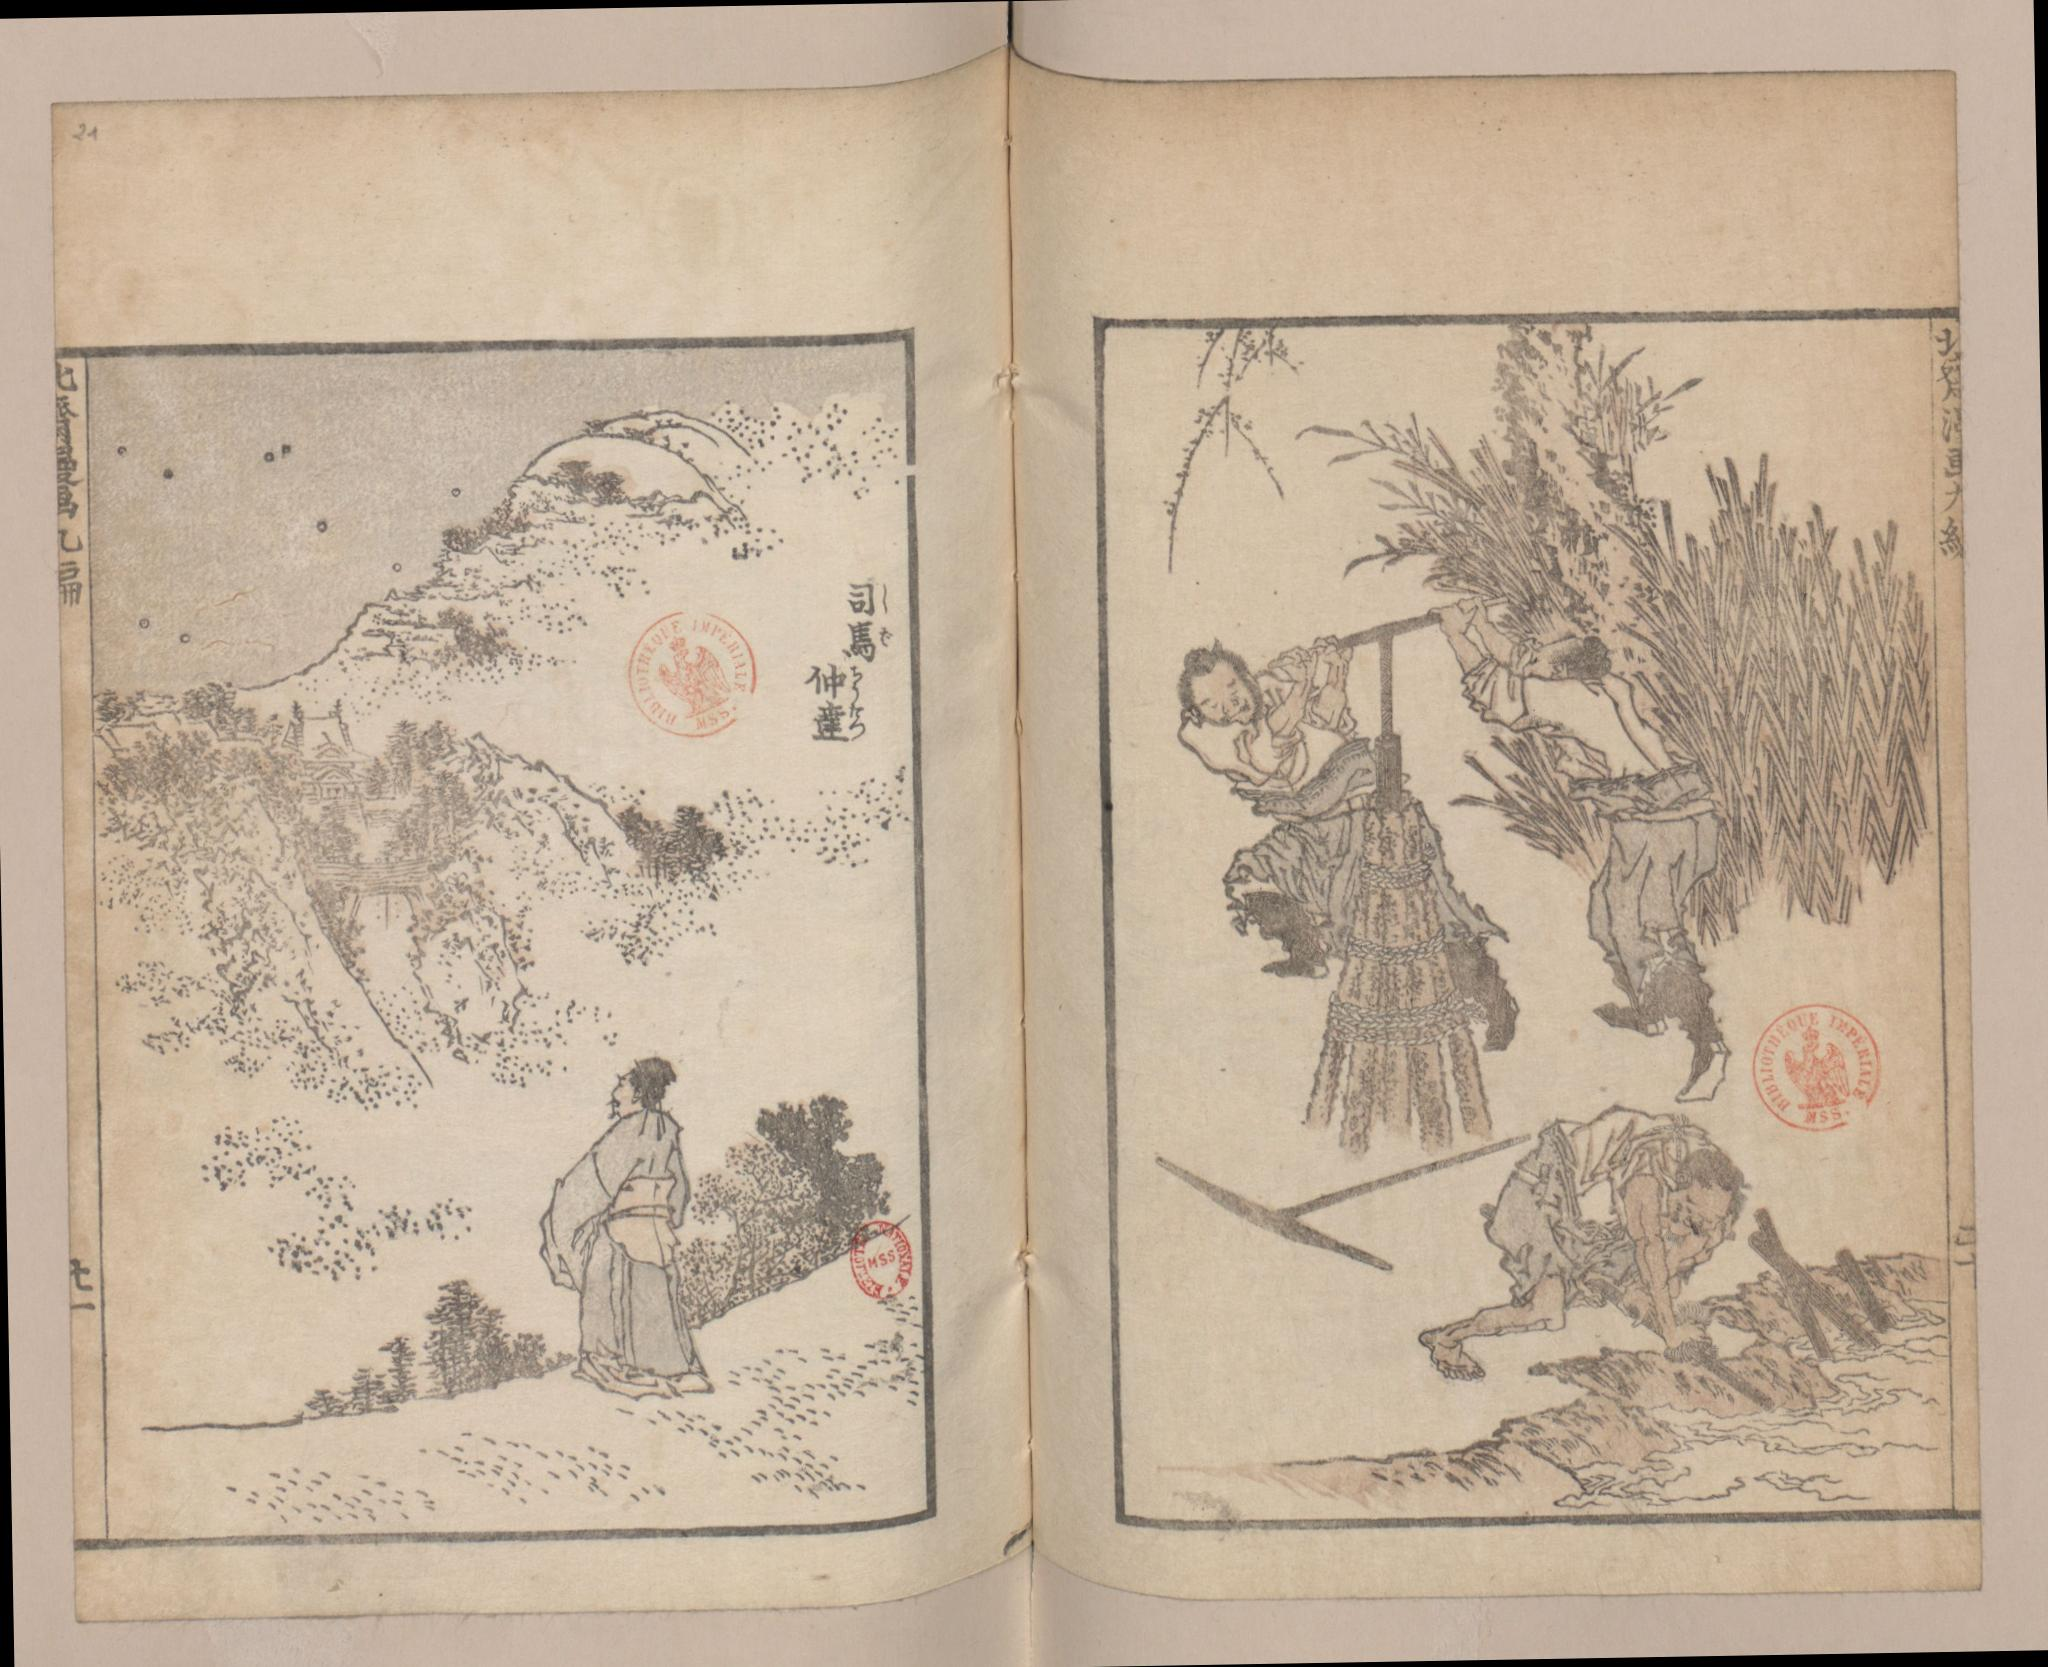MainZone-Character: (806, 699, 876, 745), (803, 660, 869, 699), (840, 572, 895, 617), (842, 617, 898, 662)
MainZone-Ruby: (845, 699, 868, 743), (847, 663, 866, 696), (874, 578, 891, 612), (876, 621, 895, 648)
